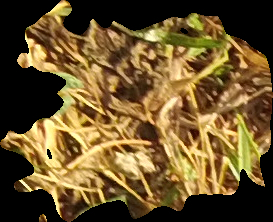soil: (1, 2, 271, 222)
